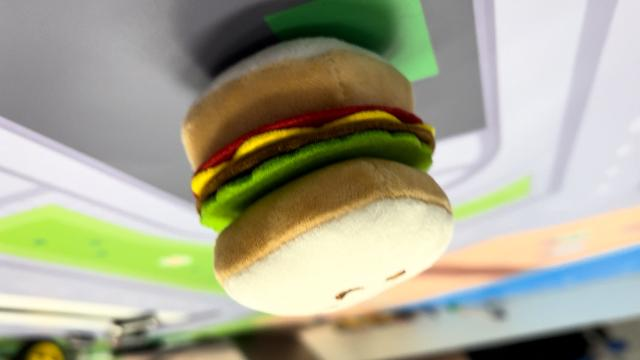sandwich: (178, 35, 458, 317)
